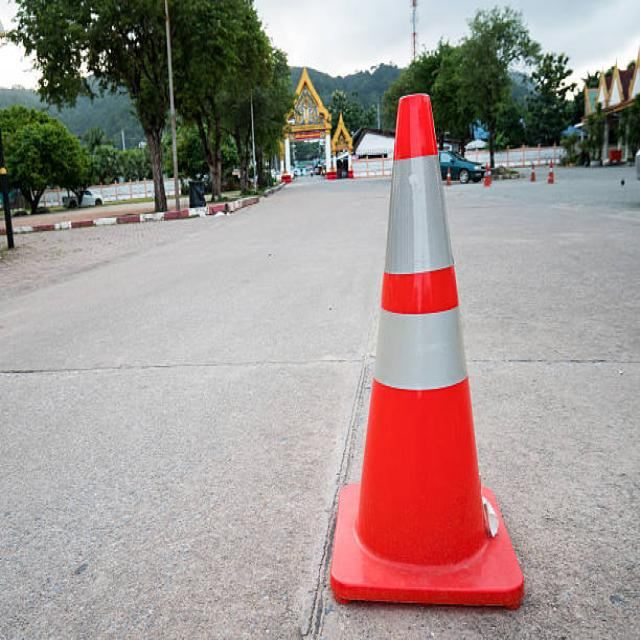Traffic Cone: (303, 54, 553, 640)
